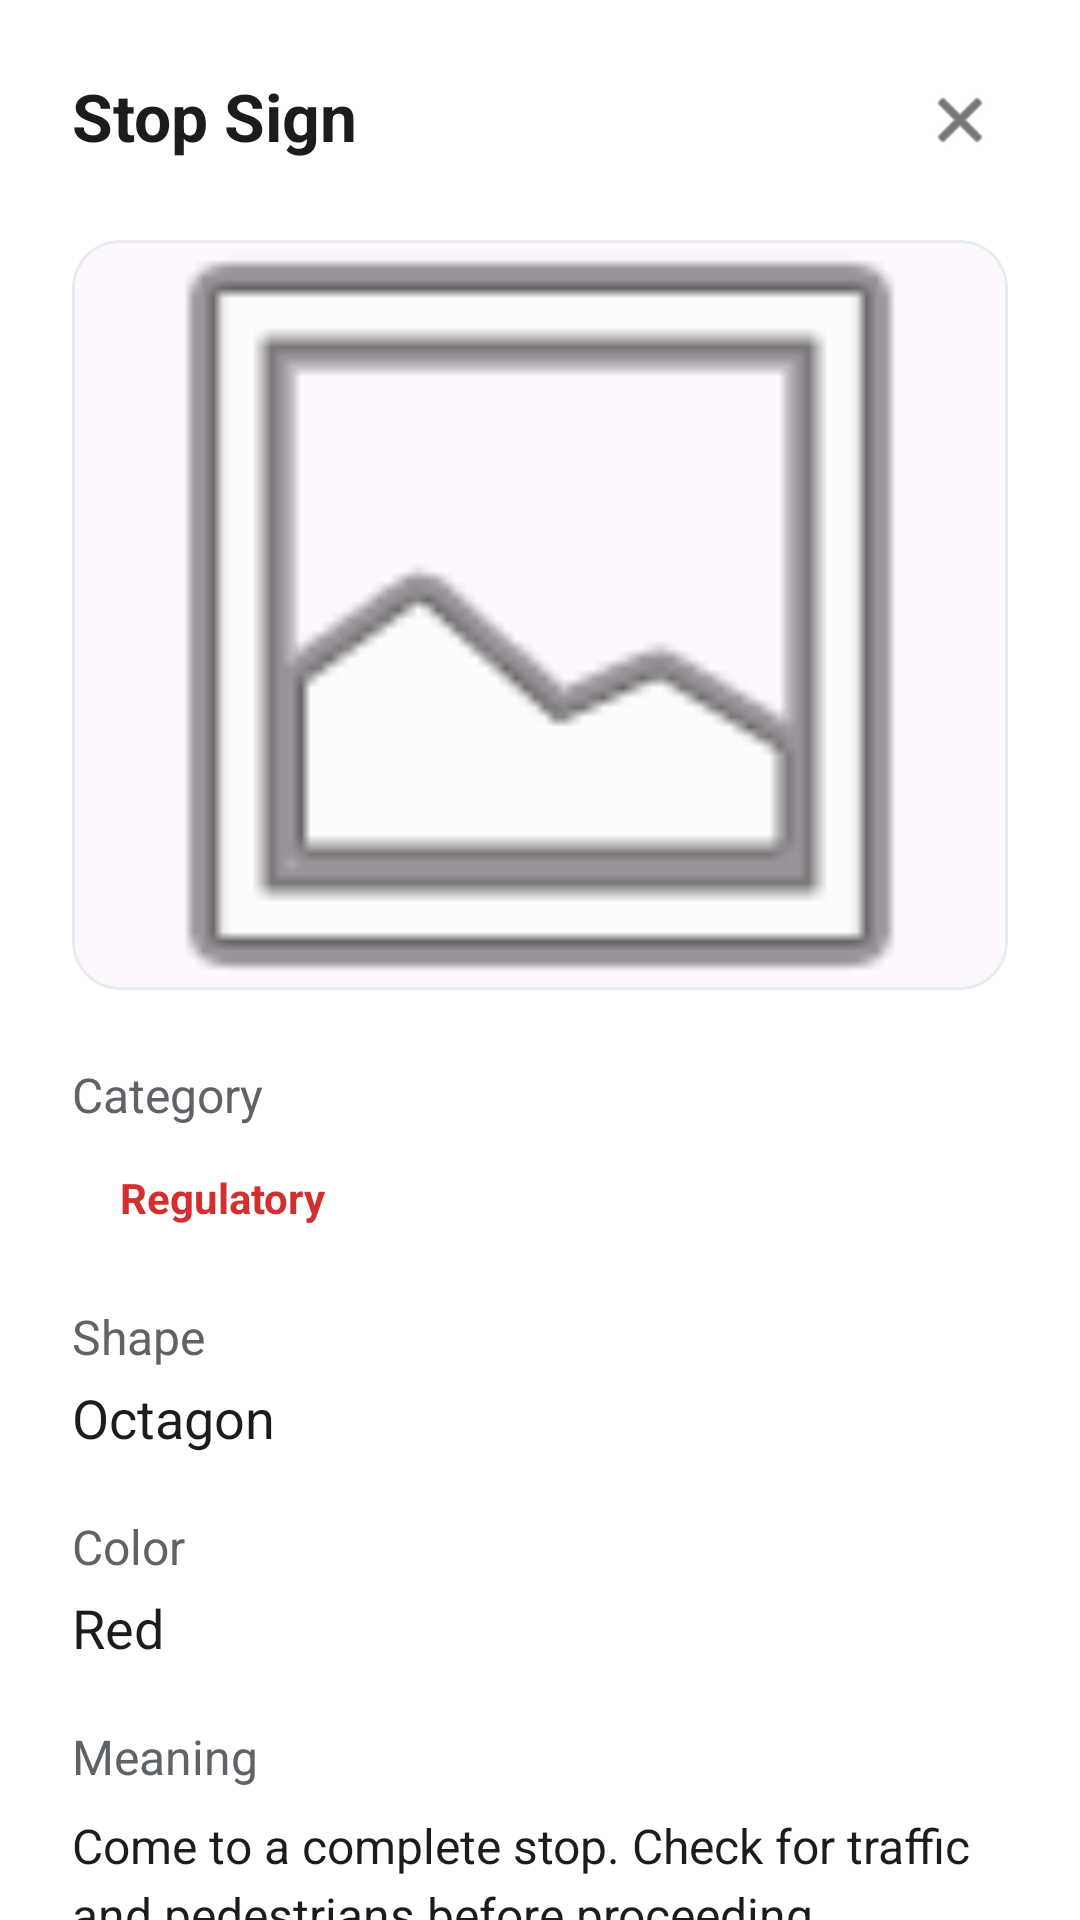

Locate icon controls on the screen. Image size 1080*1920, boxes as (x1, y1, x2, y2).
close clear cancel: (937, 97, 983, 143)
